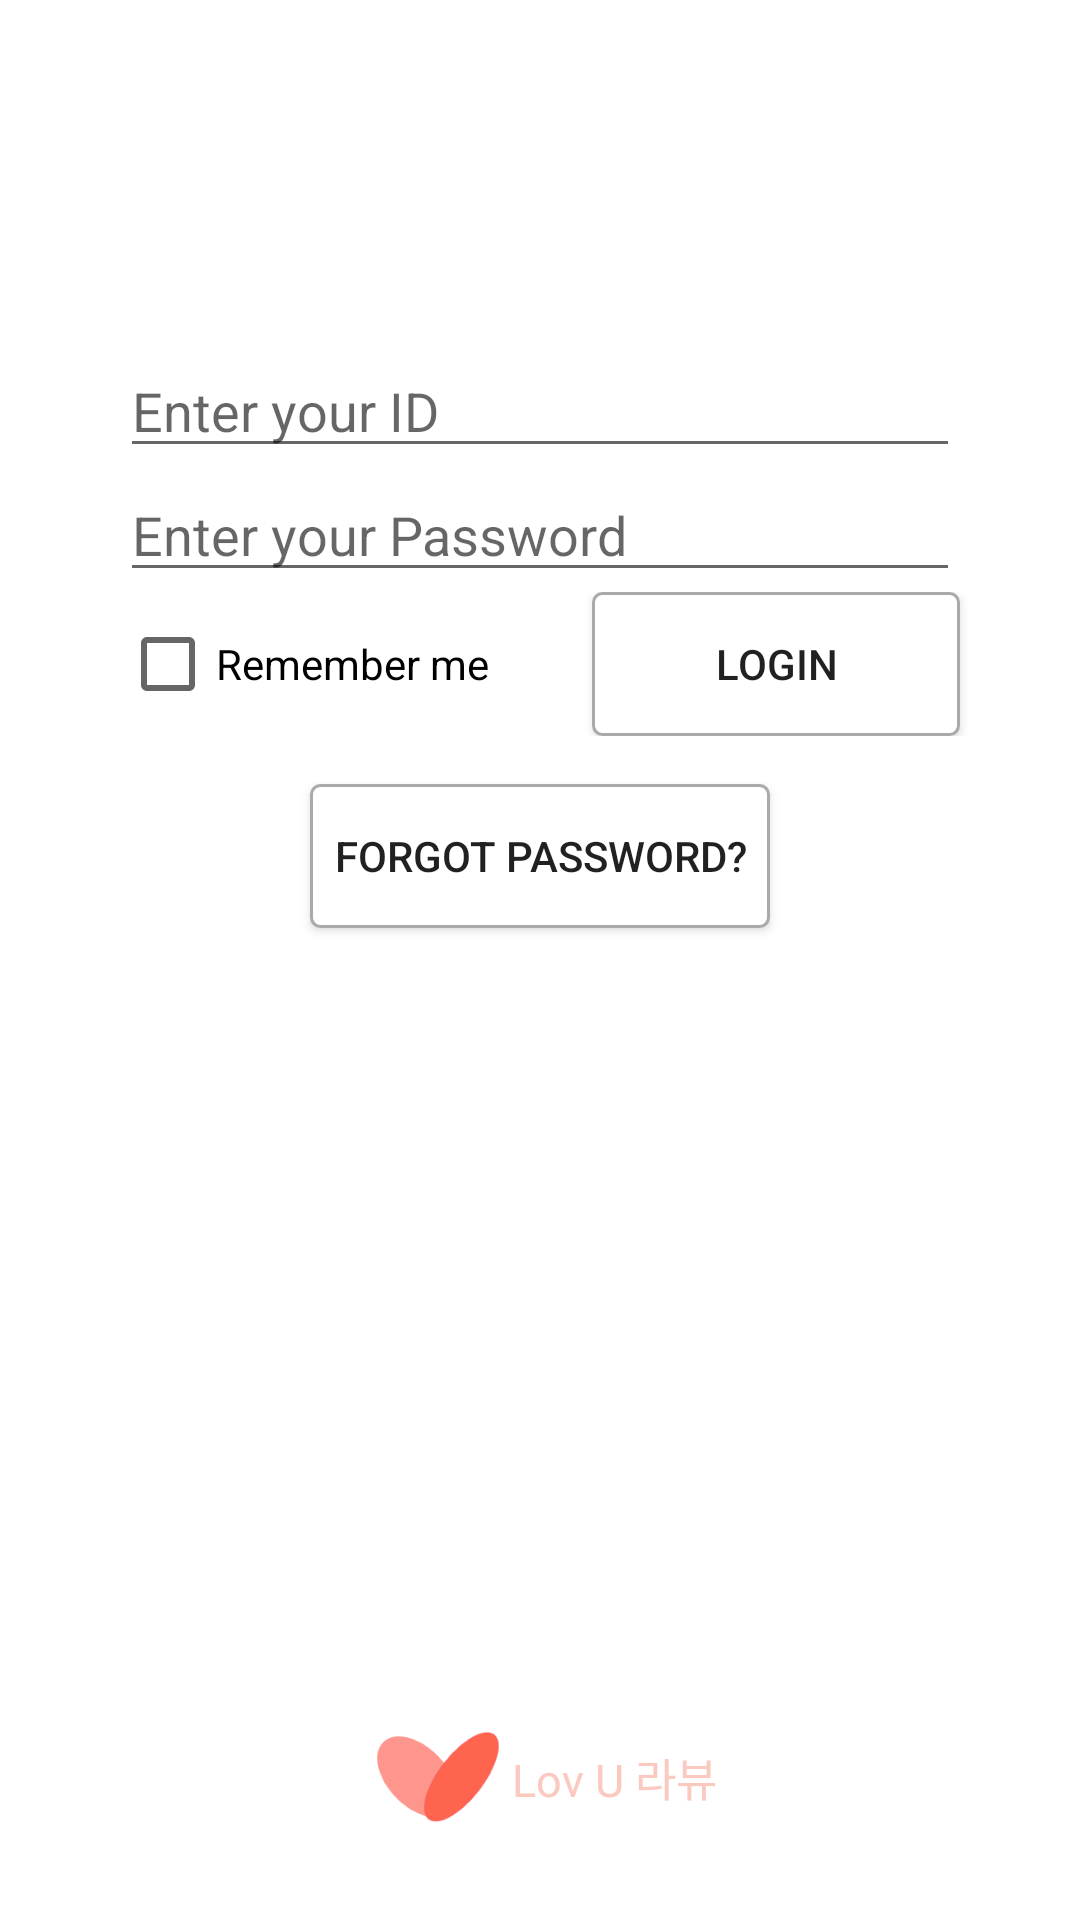

Where icons sit on this 1080px×1920px app screen, as detection(x1, y1, x2, y2):
heart: detection(377, 1732, 499, 1822)
